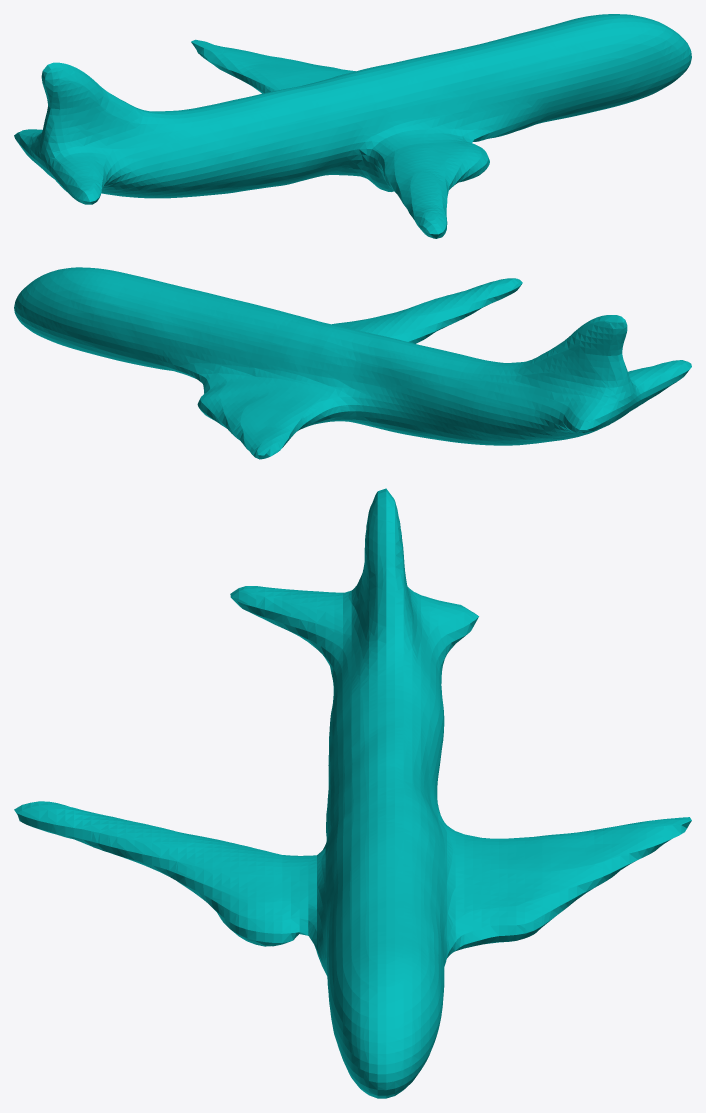
3 renders of one model, top to bottom at view 1: azimuth 30°, elevation 25°; view 2: azimuth 150°, elevation 25°; view 3: azimuth 270°, elevation 25°, orthographic. The views are drawn at different scales.
Size of the model in its own units: 0.9959 by 0.2637 by 0.677.
